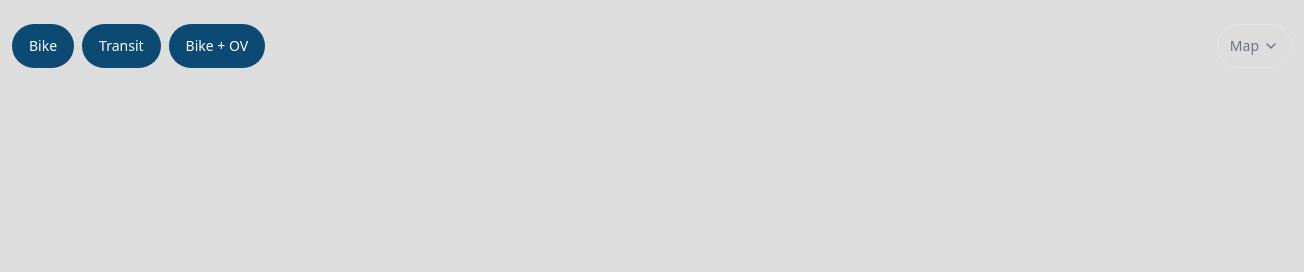
Test case: the phone panel's Hide map is locked while navigating too
Click the button with aria-label "map options" at (1254, 46), box [1217,24,1292,68]
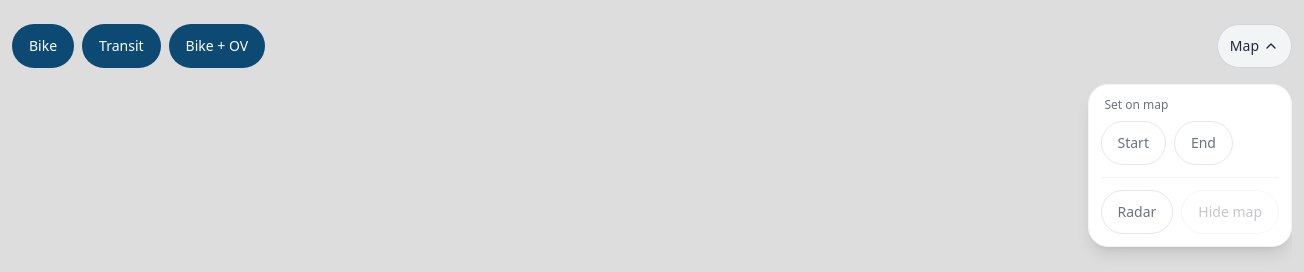
Now the button "Hide map" is disabled, box [1181,190,1279,234]
